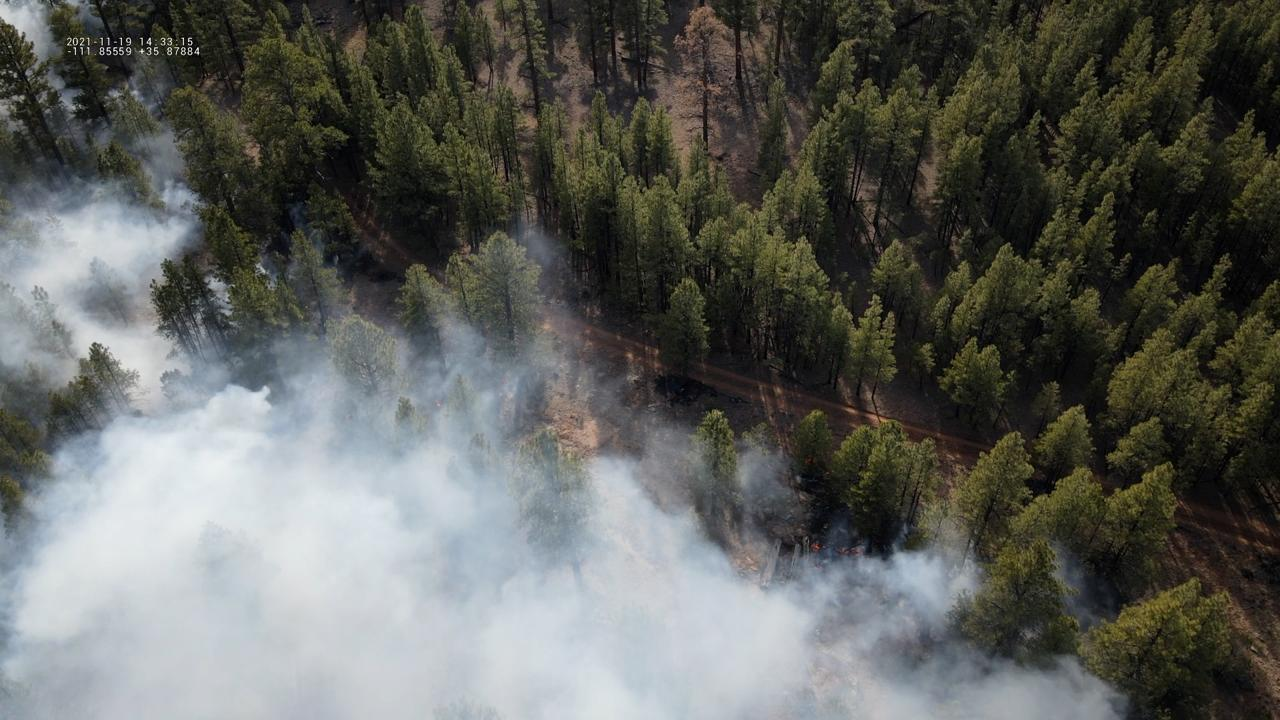fire: (834, 546, 864, 556), (809, 542, 821, 555)
smoke: (0, 0, 1134, 720)
